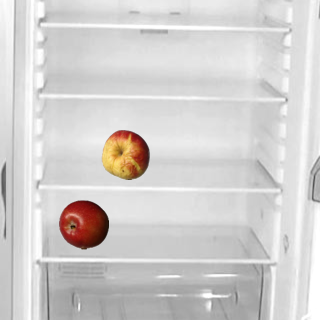Apple Braeburn: (58, 199, 108, 249)
Apple Red Yellow 1: (100, 129, 150, 179)
